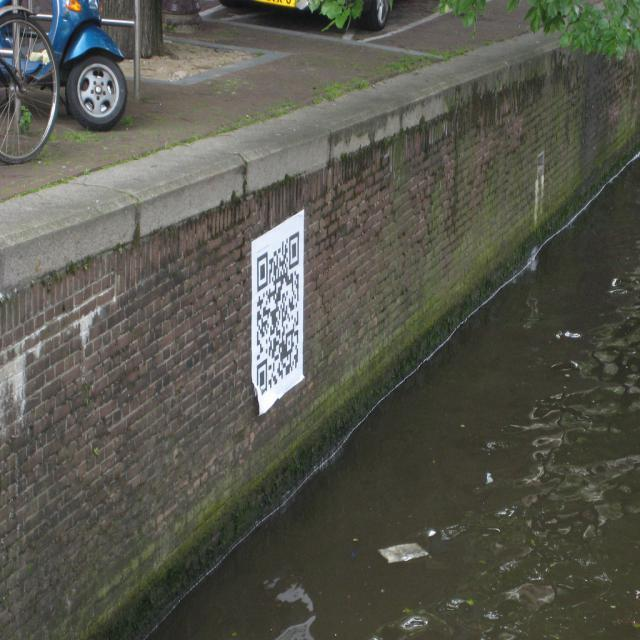qrcode: (258, 232, 299, 397)
